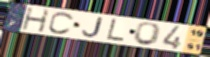4: (161, 25, 183, 50)
C: (48, 11, 76, 36)
H: (21, 7, 52, 33)
J: (81, 16, 106, 39)
L: (105, 18, 126, 43)
O: (131, 22, 163, 47)
